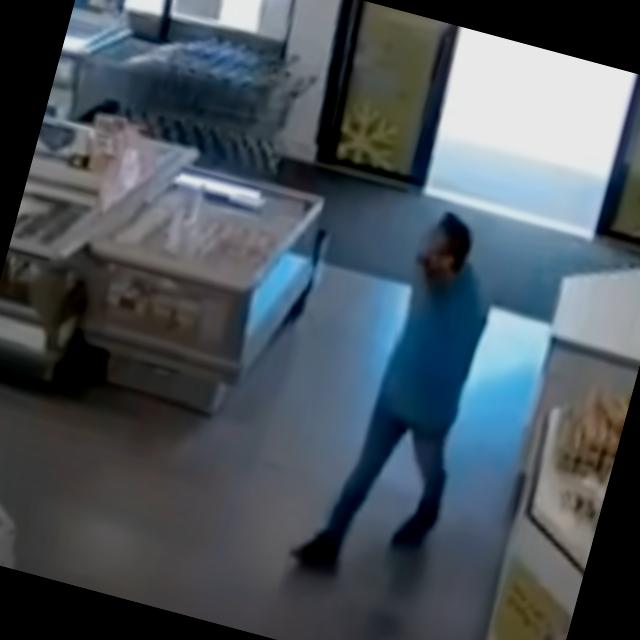person: (290, 194, 517, 595)
